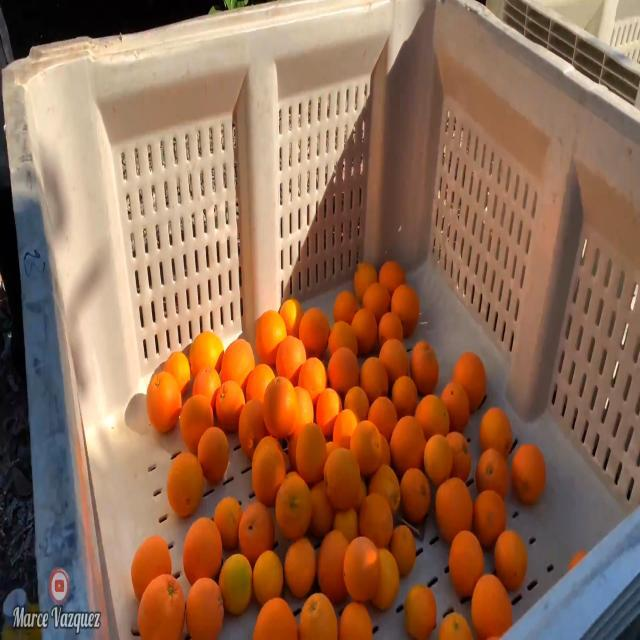Jeruk Sudah Matang: (166, 452, 206, 519), (342, 537, 382, 603), (448, 529, 486, 595), (146, 370, 183, 436), (263, 375, 300, 440), (511, 442, 546, 502), (254, 308, 287, 365), (410, 341, 440, 395)
